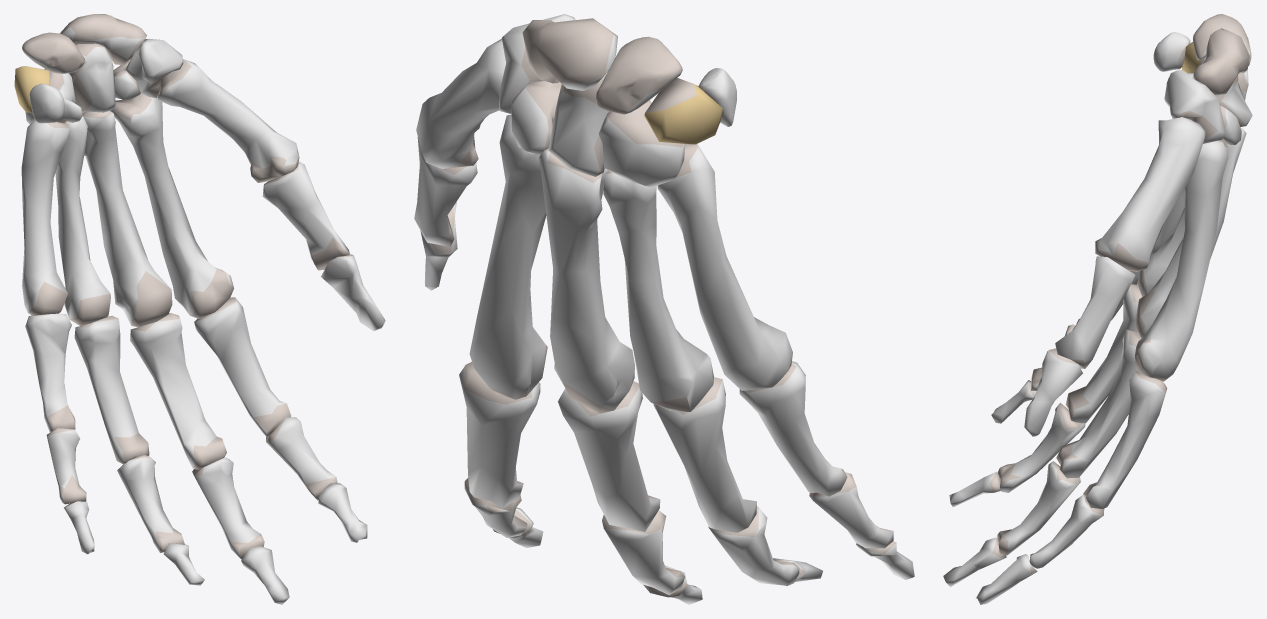
File: wrist_L.fbx
The picture shows the model from 3 angles, left to right: view 1: azimuth 30°, elevation 25°; view 2: azimuth 150°, elevation 25°; view 3: azimuth 270°, elevation 25°; orthographic projection. The views are drawn at different scales.
Visible parts, largest first — view 1: Capitate bone.l.001; view 2: Capitate bone.l.001; view 3: Capitate bone.l.001.
Boxes of the visible parts, box(x1,y1,x2,y2) form: Capitate bone.l.001: box(14, 14, 385, 604); Capitate bone.l.001: box(414, 14, 914, 604); Capitate bone.l.001: box(943, 14, 1252, 604).
Size of the model in its own units: 10.86 by 16.42 by 8.81.
